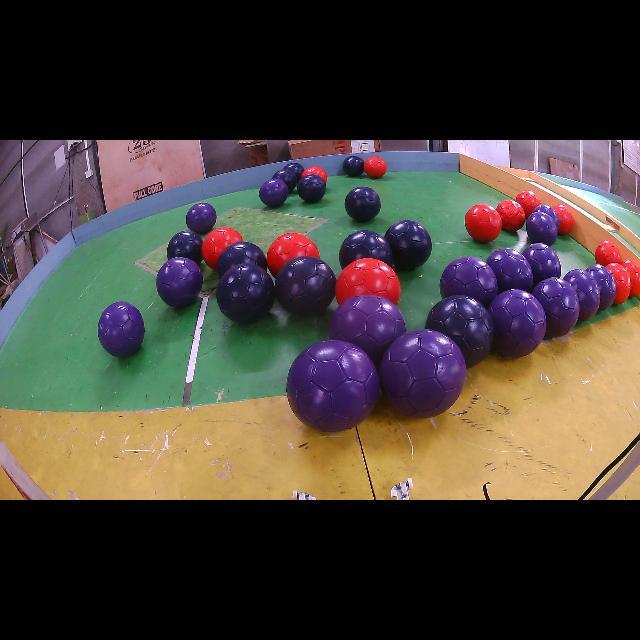B: (425, 295, 494, 368), (275, 256, 336, 315), (216, 264, 275, 324), (384, 220, 432, 270), (339, 230, 394, 269), (218, 241, 268, 277), (345, 186, 381, 222), (166, 230, 202, 265), (298, 174, 326, 202), (272, 169, 298, 193), (342, 156, 364, 176), (284, 162, 305, 181)
P: (286, 340, 380, 432), (380, 330, 465, 418), (329, 295, 406, 366), (489, 289, 546, 358), (440, 256, 498, 306), (532, 278, 580, 338), (156, 258, 202, 308), (486, 249, 532, 293), (564, 269, 600, 321), (522, 242, 561, 287), (586, 264, 616, 311), (526, 211, 558, 246), (186, 202, 216, 234), (259, 179, 289, 208), (532, 205, 560, 229)
R: (335, 258, 401, 305), (98, 301, 145, 356), (268, 232, 320, 276), (201, 228, 244, 270), (465, 204, 502, 242), (606, 262, 631, 304), (496, 200, 525, 231), (551, 204, 574, 235), (516, 190, 541, 218), (595, 240, 621, 266), (622, 260, 640, 296), (364, 156, 388, 178), (301, 166, 328, 182)
